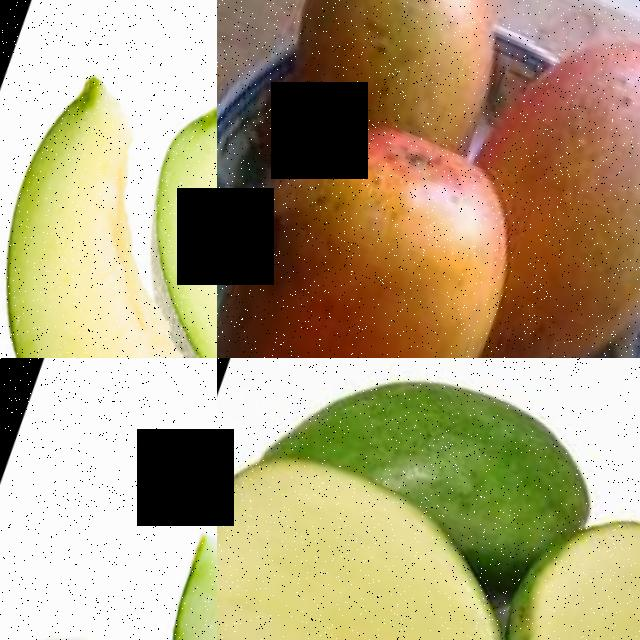mango: (217, 72, 556, 358), (243, 358, 617, 575), (442, 7, 640, 358), (261, 0, 553, 161), (480, 486, 640, 640)
melon: (0, 49, 217, 358), (0, 360, 217, 640), (91, 16, 217, 358)
